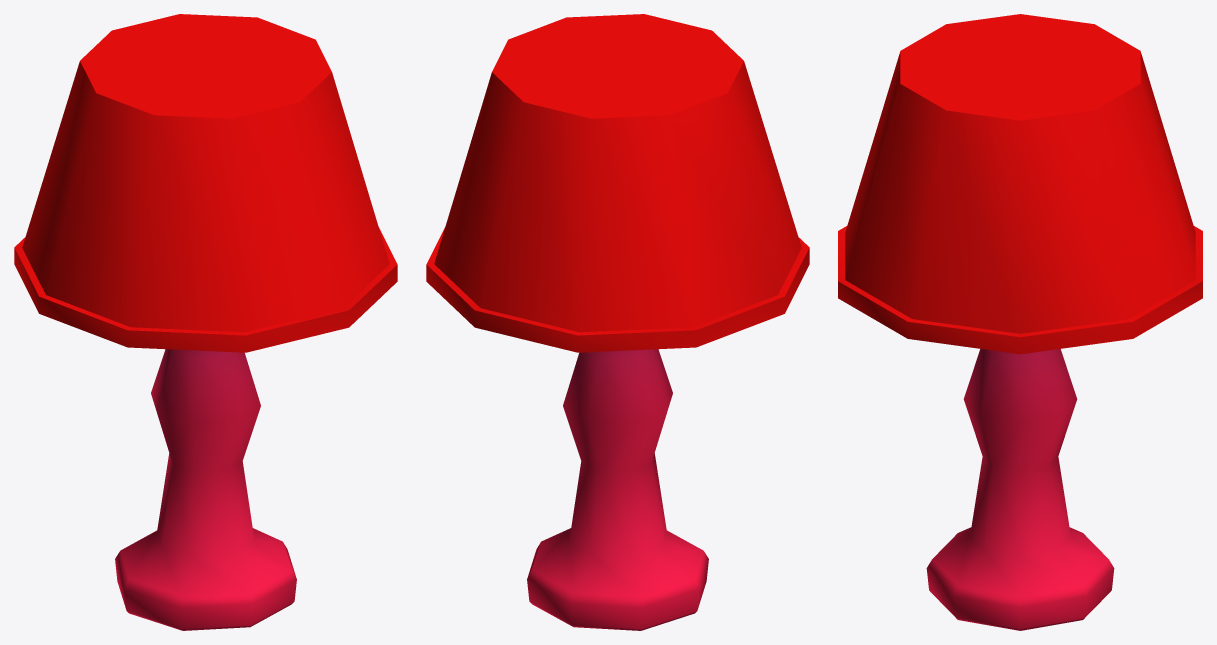
Rendered from CI_Bedroom_Lamp_Bedside.fbx.
The picture shows the model from 3 angles, left to right: view 1: azimuth 30°, elevation 25°; view 2: azimuth 150°, elevation 25°; view 3: azimuth 270°, elevation 25°; orthographic projection.
Visible parts, largest first — view 1: CI_Bedroom_Lamp_Bedside; view 2: CI_Bedroom_Lamp_Bedside; view 3: CI_Bedroom_Lamp_Bedside.
Part boxes in pixels (box(x1,y1,x2,y2)): CI_Bedroom_Lamp_Bedside: box(14, 14, 397, 630); CI_Bedroom_Lamp_Bedside: box(426, 14, 809, 630); CI_Bedroom_Lamp_Bedside: box(838, 14, 1202, 630).
Bounding box in the file's own units: 0.304 × 0.46 × 0.2891.
